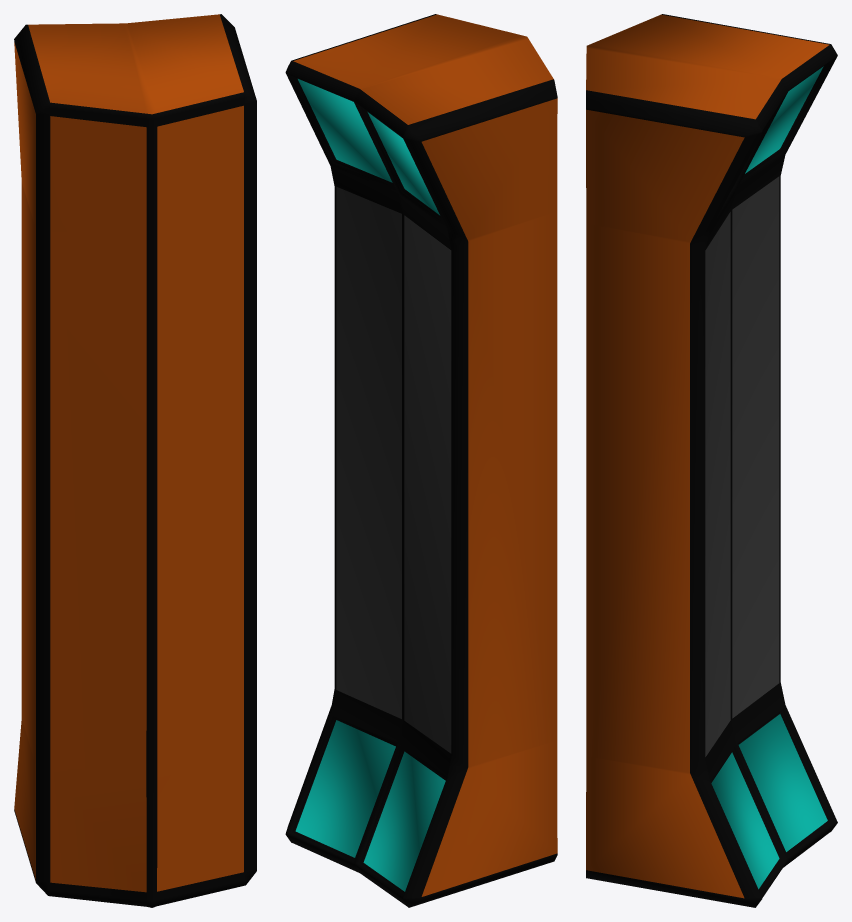
Rendered from Columna.FBX.
The picture shows the model from 3 angles, left to right: view 1: azimuth 30°, elevation 25°; view 2: azimuth 150°, elevation 25°; view 3: azimuth 270°, elevation 25°; orthographic projection.
Visible parts, largest first — view 1: Soporte; view 2: Soporte; view 3: Soporte.
Boxes of the visible parts, x1=… form: Soporte: x1=14, y1=14, x2=256, y2=907; Soporte: x1=285, y1=14, x2=557, y2=907; Soporte: x1=586, y1=14, x2=837, y2=907.
Bounding box in the file's own units: 155 × 501 × 145.
